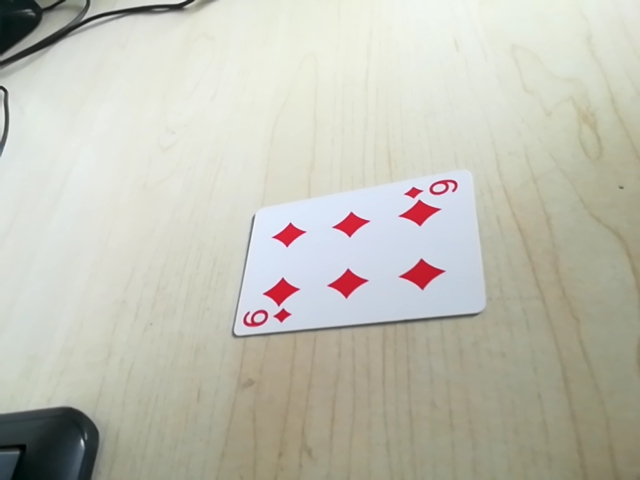fk 6: (403, 174, 465, 202), (238, 306, 295, 332)
